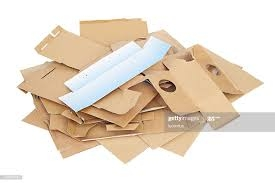paper: (59, 36, 174, 113), (21, 100, 155, 162), (141, 55, 241, 131), (34, 24, 146, 90)
